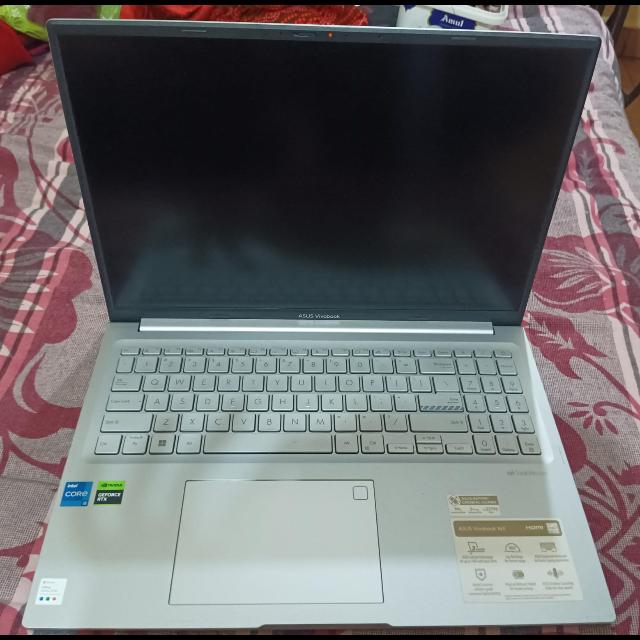laptop: (41, 14, 615, 636)
